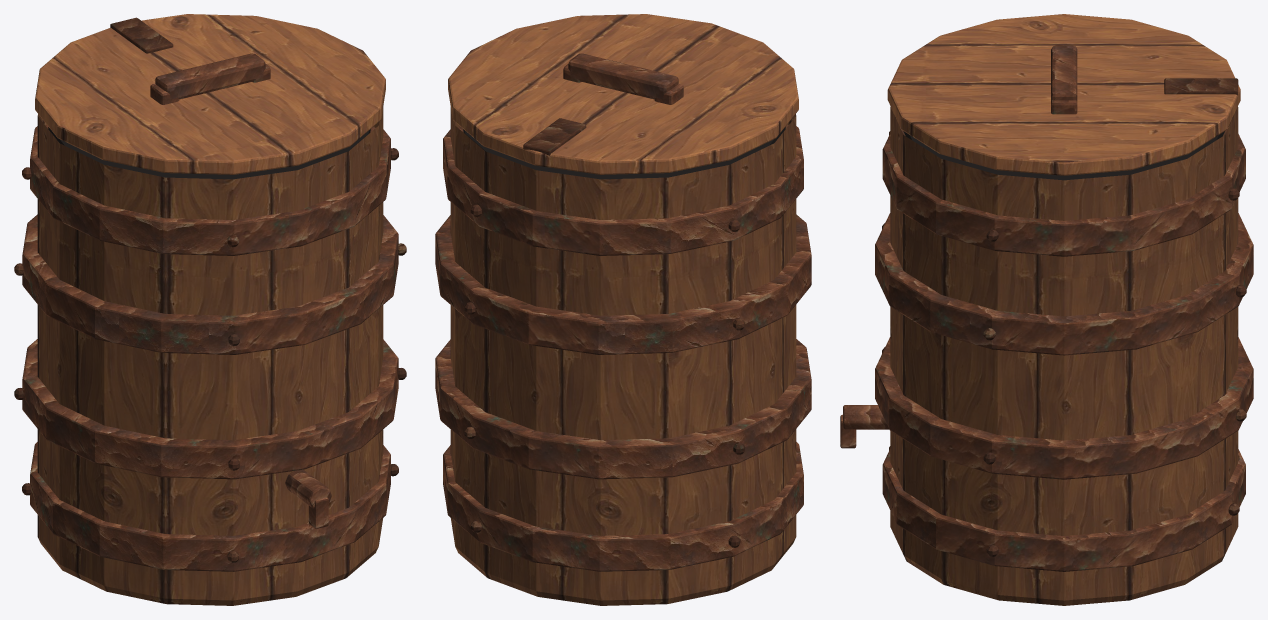
The model's file is barrel_box.glb.
3 renders of one model, left to right at view 1: azimuth 30°, elevation 25°; view 2: azimuth 150°, elevation 25°; view 3: azimuth 270°, elevation 25°, orthographic.
Parts seen in each view (by area): view 1: model, lid; view 2: model, lid; view 3: model, lid.
Part boxes in pixels (x1=…): model: x1=14, y1=107, x2=406, y2=605; lid: x1=35, y1=14, x2=385, y2=174; model: x1=435, y1=107, x2=811, y2=605; lid: x1=448, y1=14, x2=798, y2=174; model: x1=840, y1=106, x2=1253, y2=605; lid: x1=887, y1=14, x2=1240, y2=175.
Size of the model in its own units: 0.7186 by 0.98 by 0.7843.
5 materials, 4 textured.
